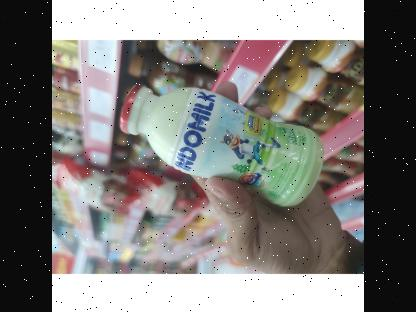Others: (104, 61, 330, 221)
